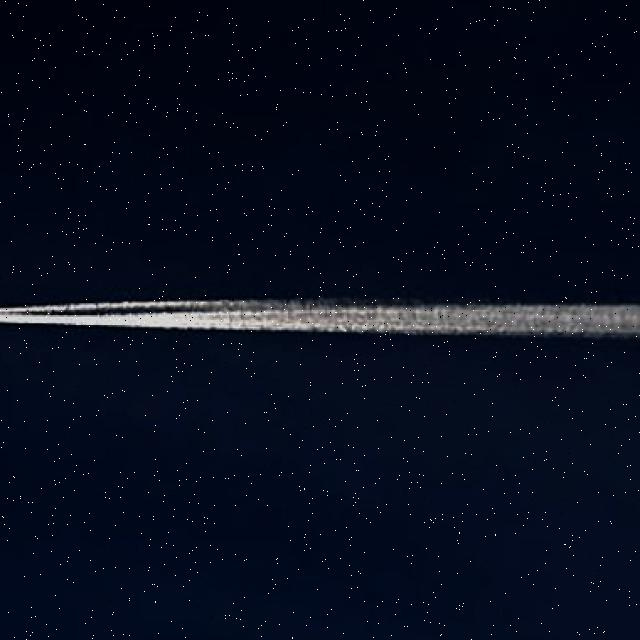Ct: (1, 134, 640, 496)
